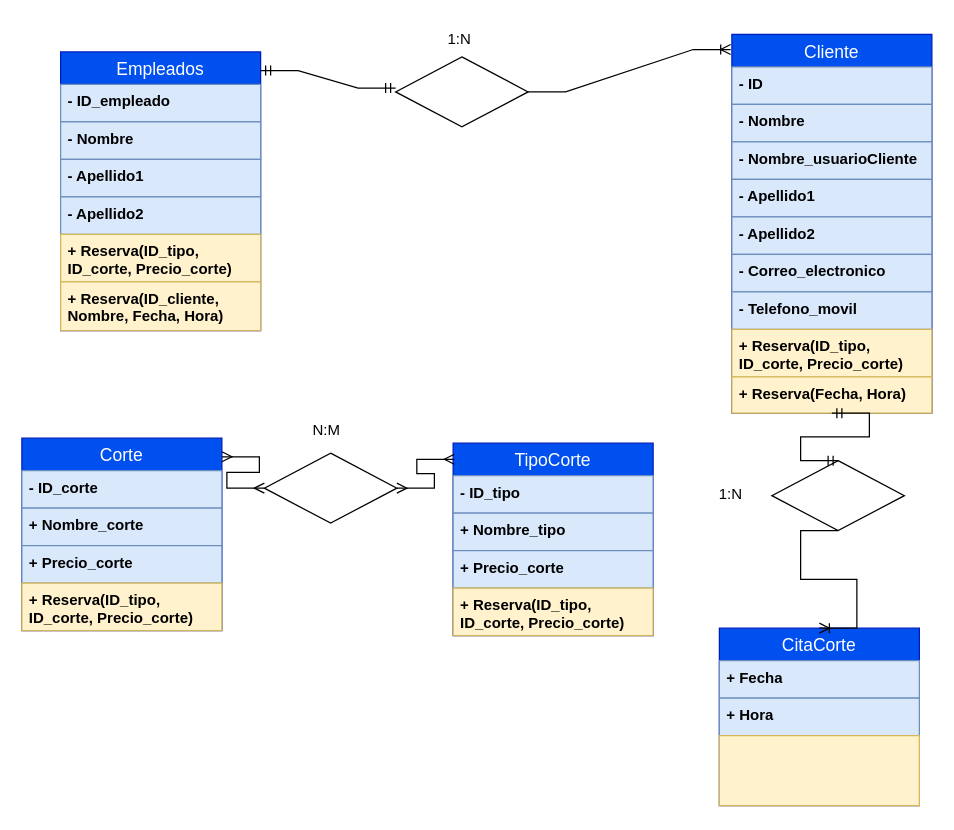
Image size: 954x830. Some labels were removed from this diagram. The shapes that lost their labels are listed below. From the top down, each one's centre as x and y in pixels, then its label:
(461,91): TIENE
(330,487): CONTIENE
(837,495): SOLICITA
(818,770): + Reserva(Fecha, Hora, ID_cliente, ID_corte, ID_tipo)
